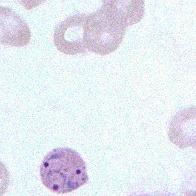Infected: (40, 147, 89, 194)
Uninfected: (85, 8, 123, 55), (53, 13, 93, 56), (0, 5, 33, 47), (167, 105, 196, 147), (105, 0, 145, 29)
